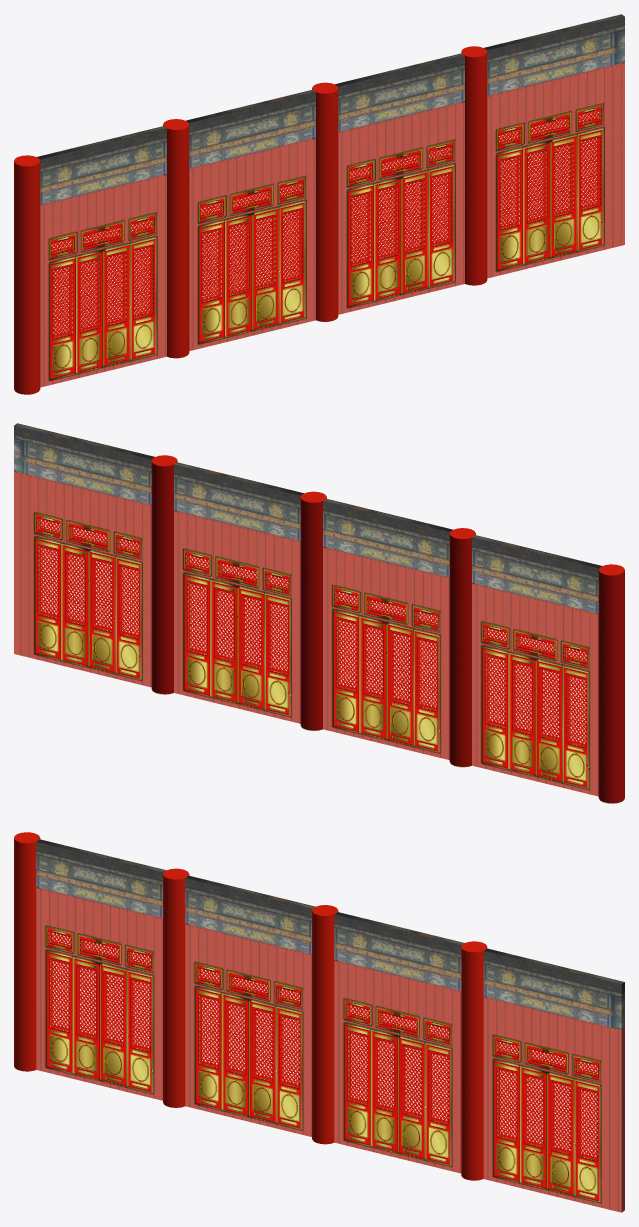
File: wallwallwallwall.dae
3 renders of one model, top to bottom at view 1: azimuth 30°, elevation 25°; view 2: azimuth 150°, elevation 25°; view 3: azimuth 330°, elevation 25°, orthographic.
Parts seen in each view (by area): view 1: MainNode; view 2: MainNode; view 3: MainNode.
Part boxes in pixels (<box>): MainNode: <box>14,14,624,394</box>; MainNode: <box>14,423,624,803</box>; MainNode: <box>14,832,624,1212</box>.
Size of the model in its own units: 13.37 by 4.8 by 0.4904.
Materials: 1 (1 with a texture image).
